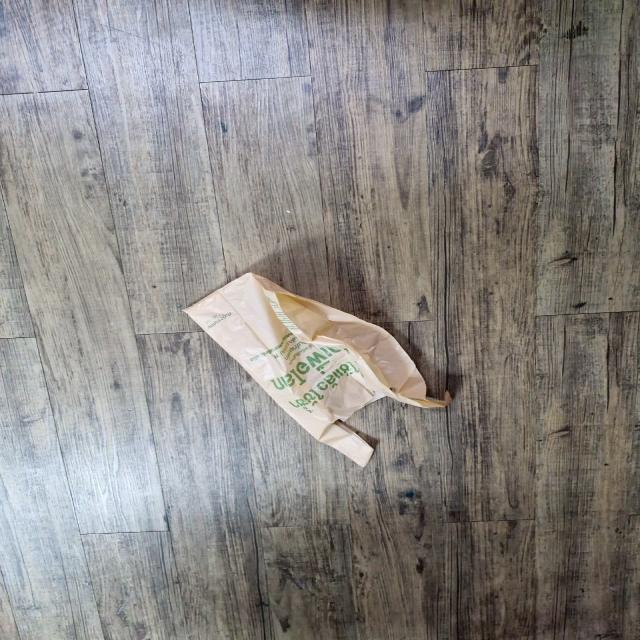plastic bag: (178, 268, 446, 472)
